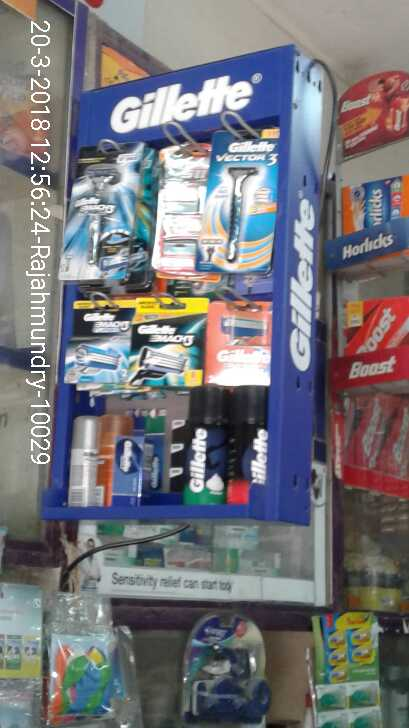gillette: (53, 144, 143, 284), (209, 140, 277, 268), (128, 303, 204, 385), (183, 391, 230, 505), (209, 299, 275, 378), (227, 381, 268, 505), (59, 305, 128, 376)
